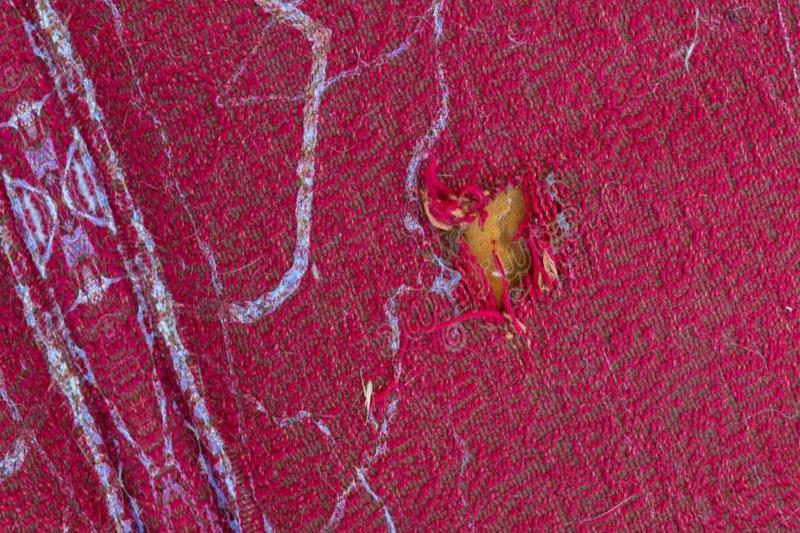hole: (441, 167, 561, 330)
